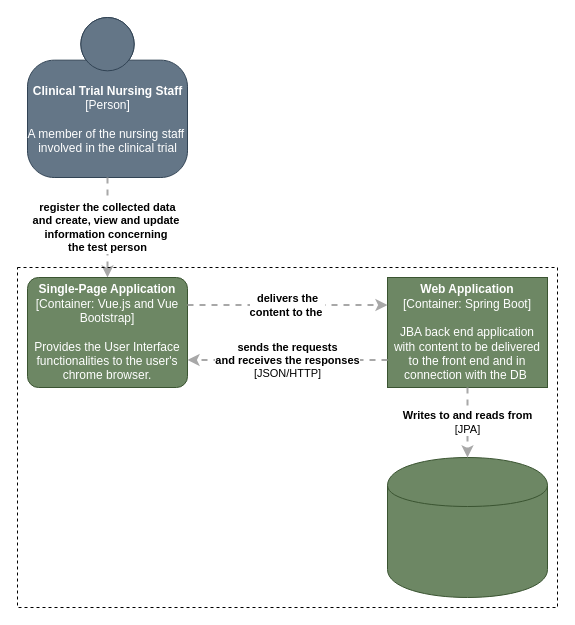
Some shapes in this 575 by 625 pixel diagram are drawn without their labels. Here are the shapes that lost their labels. From the top down, the box of each, then its label:
(16, 266, 558, 608): JBA [SoftwareSystem]
(386, 456, 548, 598): Database [Container: H2 in-memory] Stores Participant's Data
